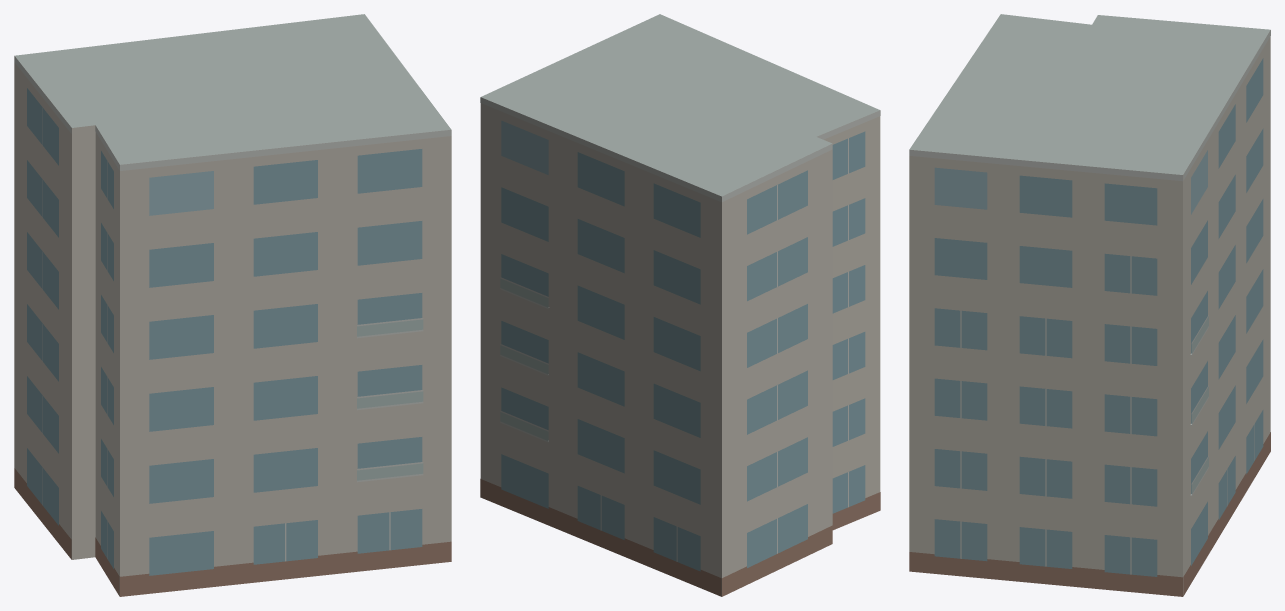
The model's file is survey-upis-32526603.glb.
3 views of the same model, side by side, from view 1: azimuth 30°, elevation 25°; view 2: azimuth 150°, elevation 25°; view 3: azimuth 270°, elevation 25° (orthographic). The views are drawn at different scales.
Parts seen in each view (by area): view 1: survey-upis-32526603.tmp; view 2: survey-upis-32526603.tmp; view 3: survey-upis-32526603.tmp.
Boxes of the visible parts, x1,y1,x2,y2 form: survey-upis-32526603.tmp: (14,14,451,596); survey-upis-32526603.tmp: (480,14,880,596); survey-upis-32526603.tmp: (909,14,1270,596).
Bounding box in the file's own units: 13.77 × 16.8 × 13.06.
